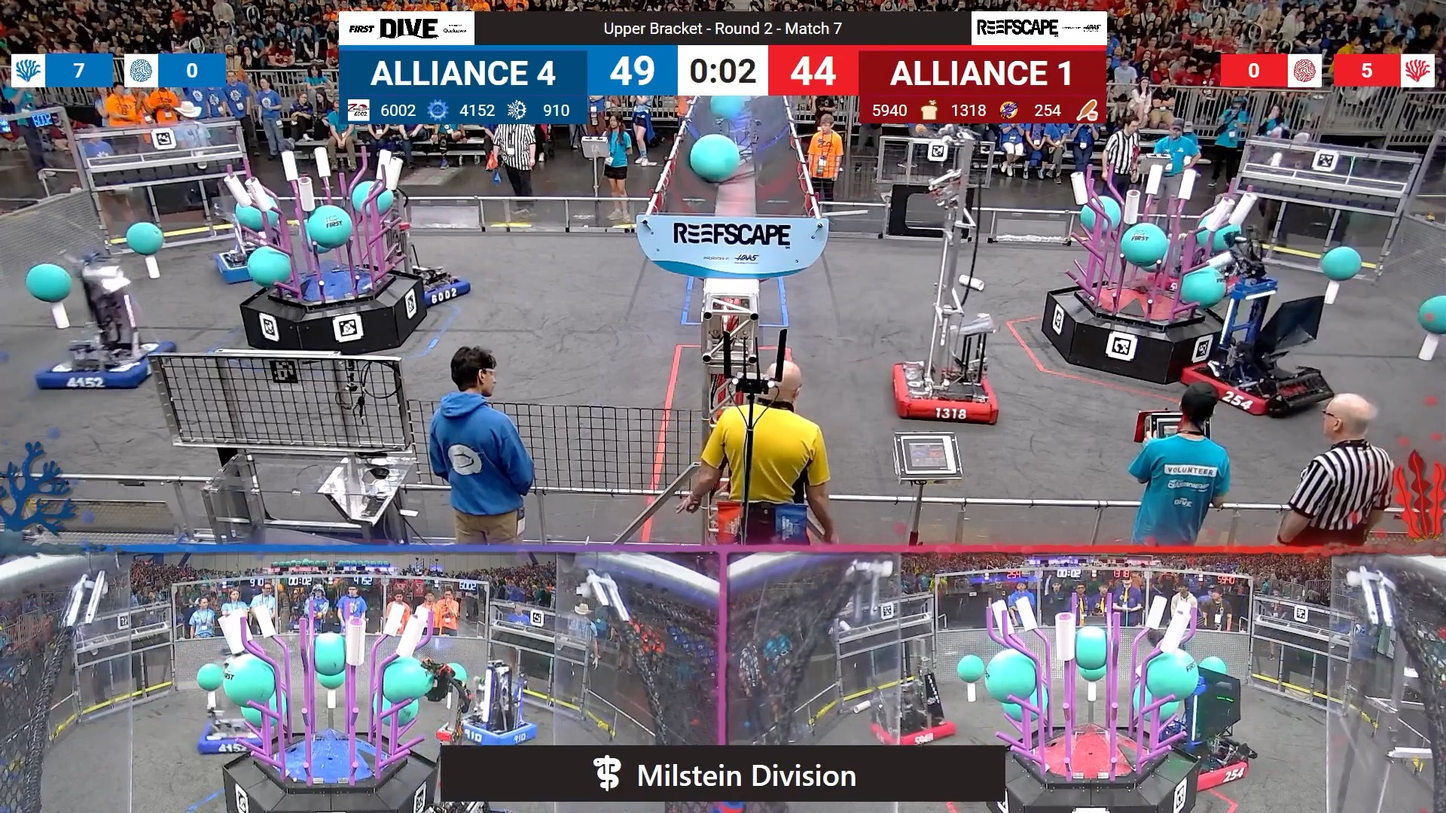bumpers: (1179, 357, 1330, 423), (32, 337, 172, 396), (886, 363, 1007, 431), (198, 706, 292, 755), (859, 708, 961, 746), (1170, 750, 1259, 792), (395, 261, 478, 306), (443, 715, 541, 750), (210, 250, 278, 284)
